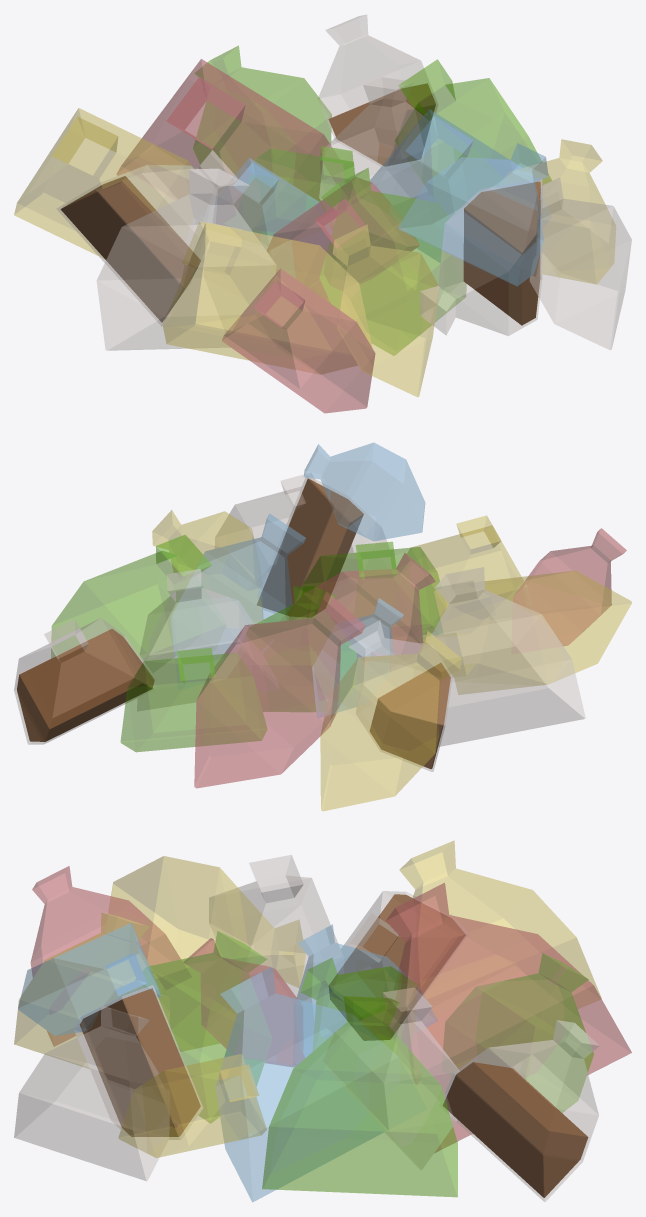
The model's file is trash for bin.fbx.
The picture shows the model from 3 angles, top to bottom: view 1: azimuth 30°, elevation 25°; view 2: azimuth 150°, elevation 25°; view 3: azimuth 270°, elevation 25°; orthographic projection. The views are drawn at different scales.
Visible parts, largest first — view 1: Cube.021; view 2: Cube.021; view 3: Cube.021.
Boxes of the visible parts, x1,y1,x2,y2 form: Cube.021: (14,14,631,413); Cube.021: (14,442,631,811); Cube.021: (14,840,631,1202).
Bounding box in the file's own units: 222 × 96.44 × 243.
